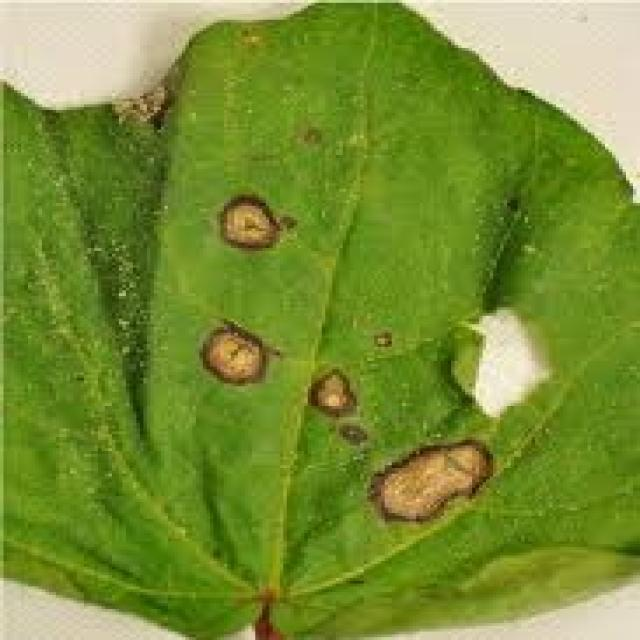Cotton Ball Rot: (364, 434, 497, 527), (193, 319, 270, 389), (213, 189, 287, 254)
